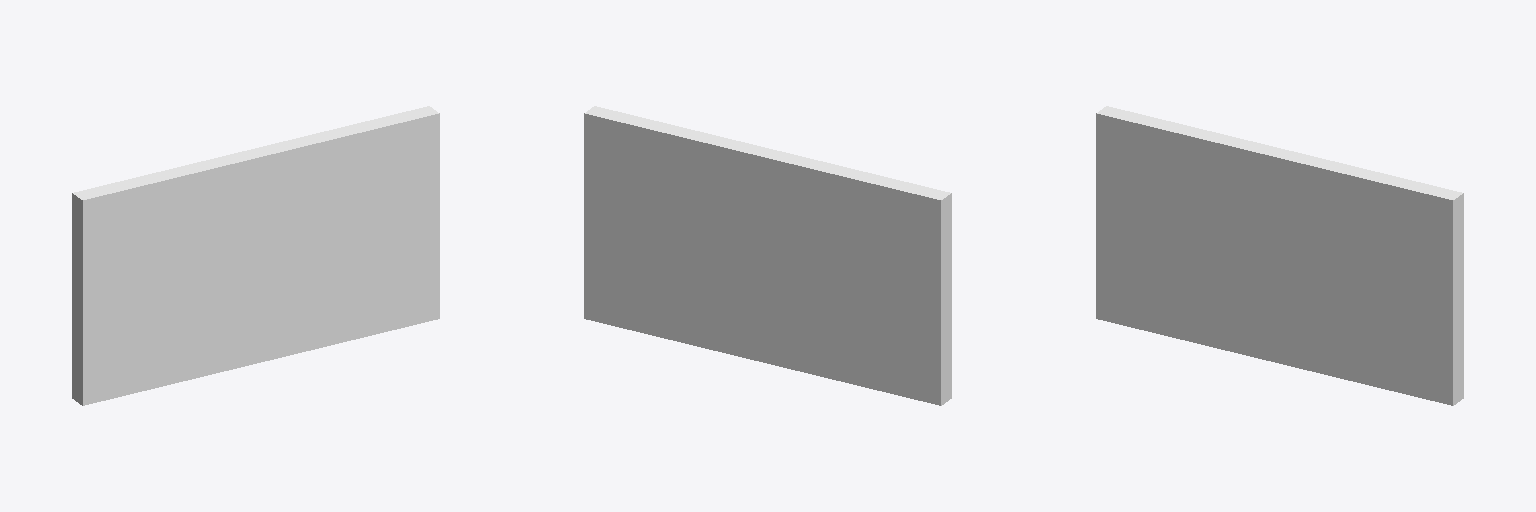
Rendered from EcranControle.obj.
3 renders of one model, left to right at view 1: azimuth 30°, elevation 25°; view 2: azimuth 150°, elevation 25°; view 3: azimuth 330°, elevation 25°, orthographic.
Parts seen in each view (by area): view 1: object 1; view 2: object 1; view 3: object 1.
Part boxes in pixels (x1,y1,x2,y2): object 1: (72, 106, 439, 405); object 1: (584, 106, 951, 405); object 1: (1096, 106, 1463, 405).
Bounding box in the file's own units: 2 × 1.1 × 0.1.